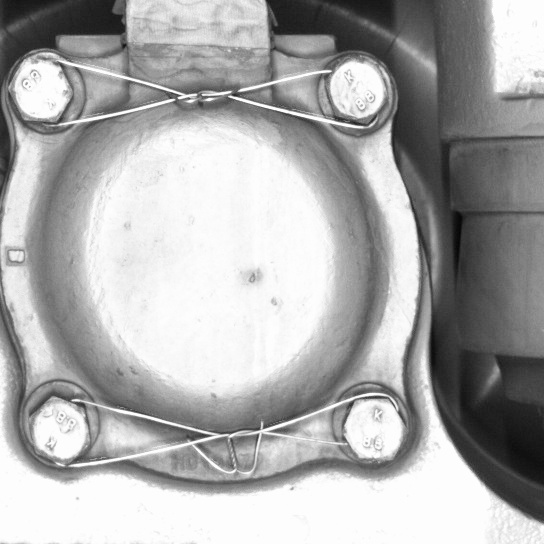IronWire: (0, 41, 397, 134), (13, 382, 412, 472)
Screw: (0, 42, 80, 133), (13, 386, 97, 471), (334, 385, 412, 470), (319, 47, 394, 131)
